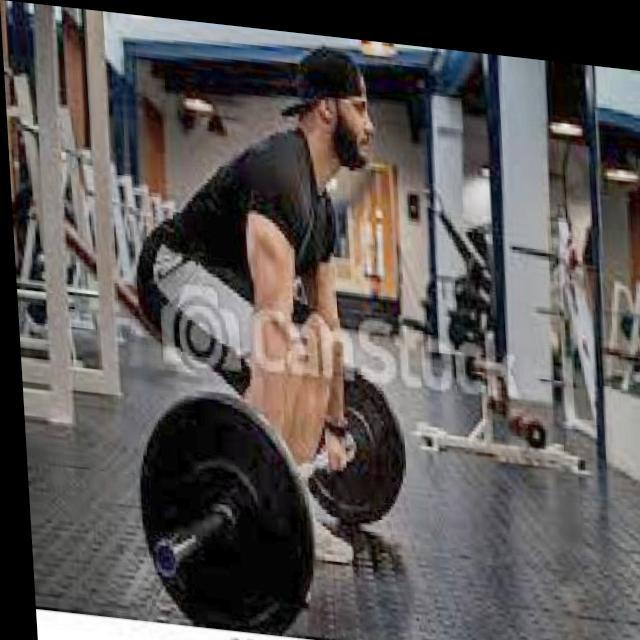barbell: (125, 371, 316, 627)
